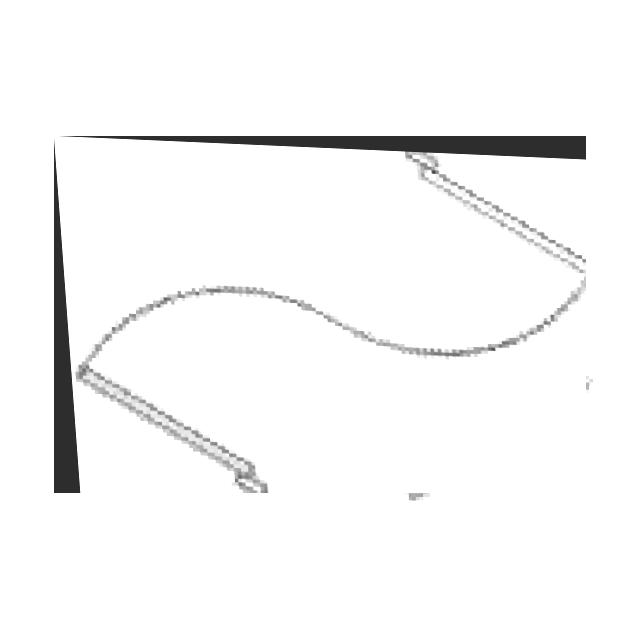door: (54, 136, 586, 493)
